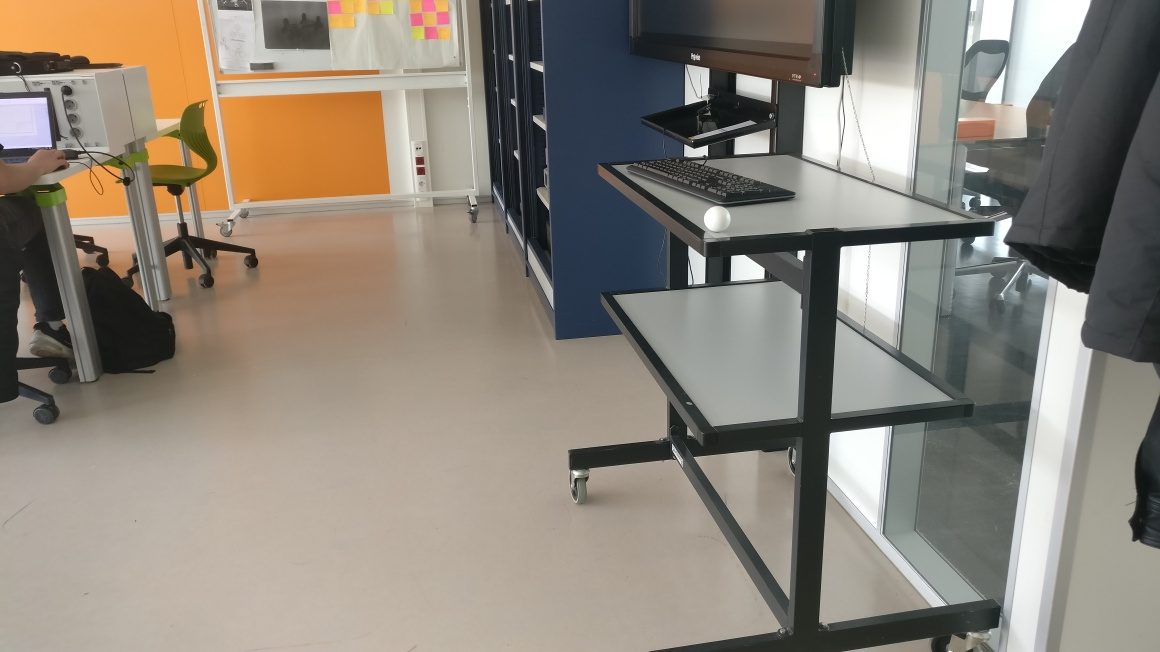egg: (703, 205, 731, 233)
